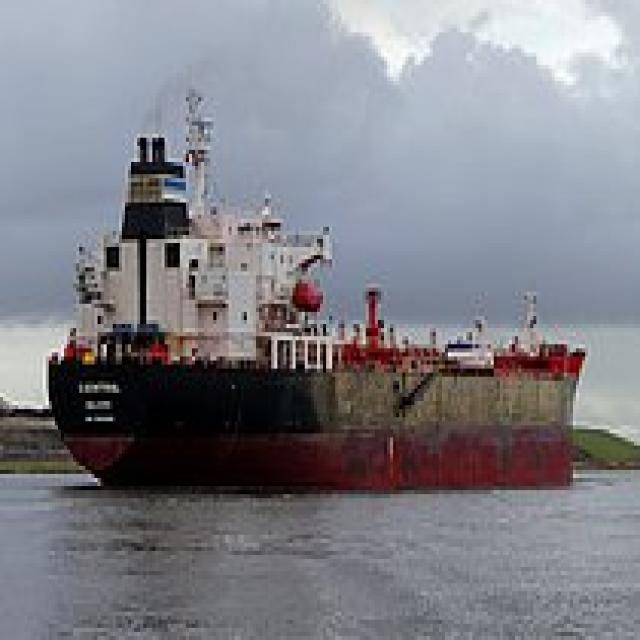Tanker: (43, 81, 582, 486)
